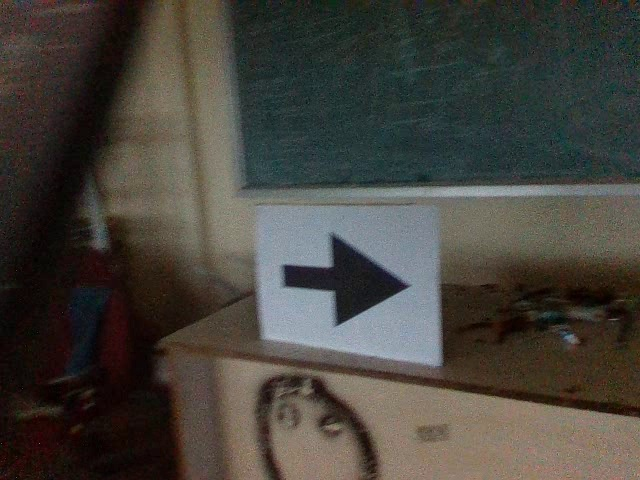Right: (273, 227, 413, 333)
